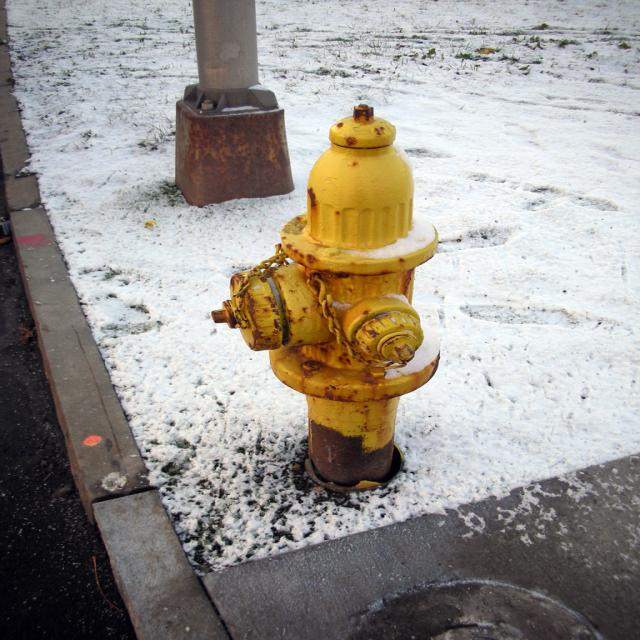fire_hydrant: (214, 102, 438, 492)
